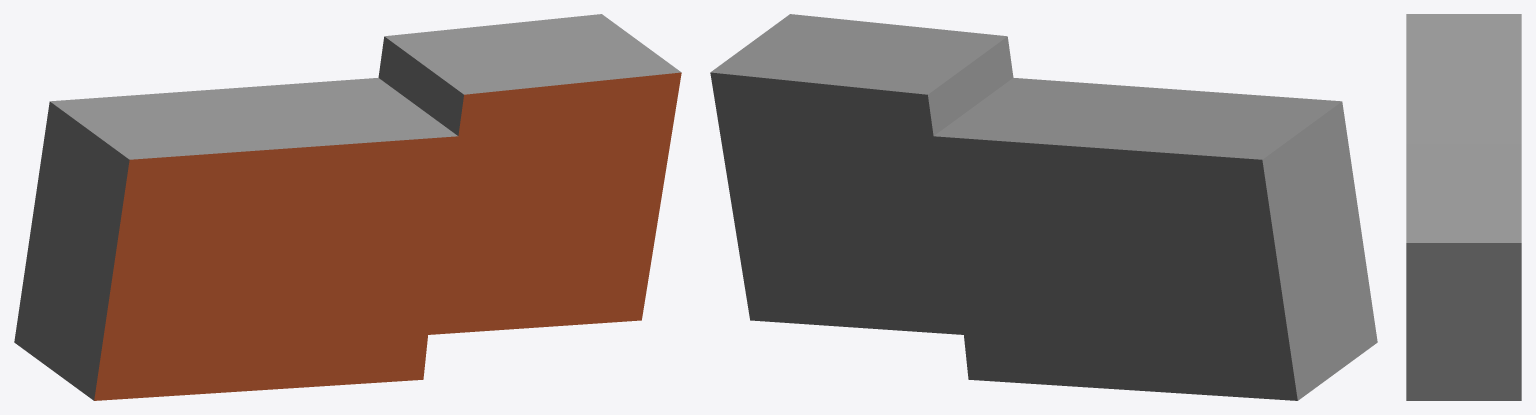
Rendered from construction_1786_assumed_A_Casa_h6m.obj.
3 views of the same model, side by side, from view 1: azimuth 30°, elevation 25°; view 2: azimuth 150°, elevation 25°; view 3: azimuth 270°, elevation 25° (orthographic). The views are drawn at different scales.
Parts seen in each view (by area): view 1: construction_1786_assumed_A_Casa; view 2: construction_1786_assumed_A_Casa; view 3: construction_1786_assumed_A_Casa.
Boxes of the visible parts, x1=… form: construction_1786_assumed_A_Casa: x1=14, y1=14, x2=681, y2=400; construction_1786_assumed_A_Casa: x1=710, y1=14, x2=1377, y2=400; construction_1786_assumed_A_Casa: x1=1406, y1=14, x2=1521, y2=400.
Size of the model in its own units: 25.47 by 12.09 by 6.
